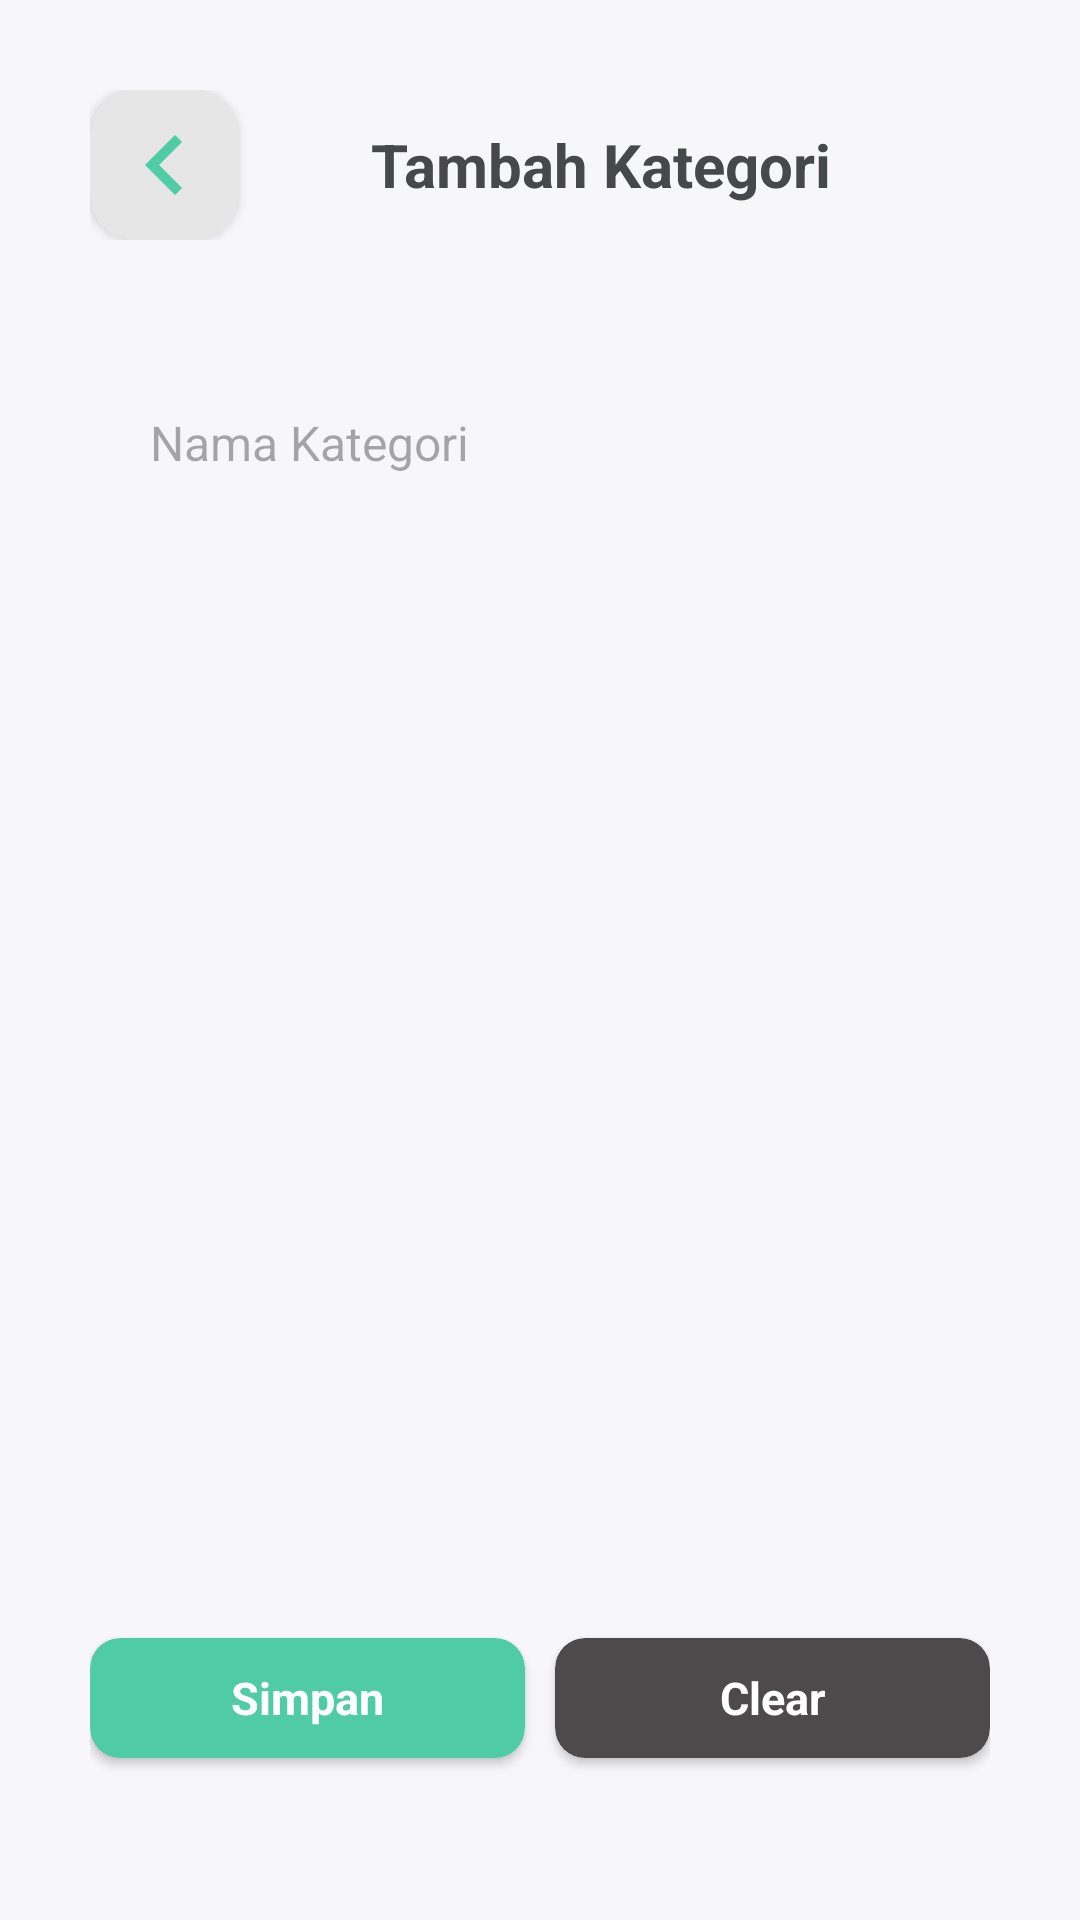

Where to tap for icons on this 1080 x 1920 app screen, as [x,y]:
chevron left: [163,165]
